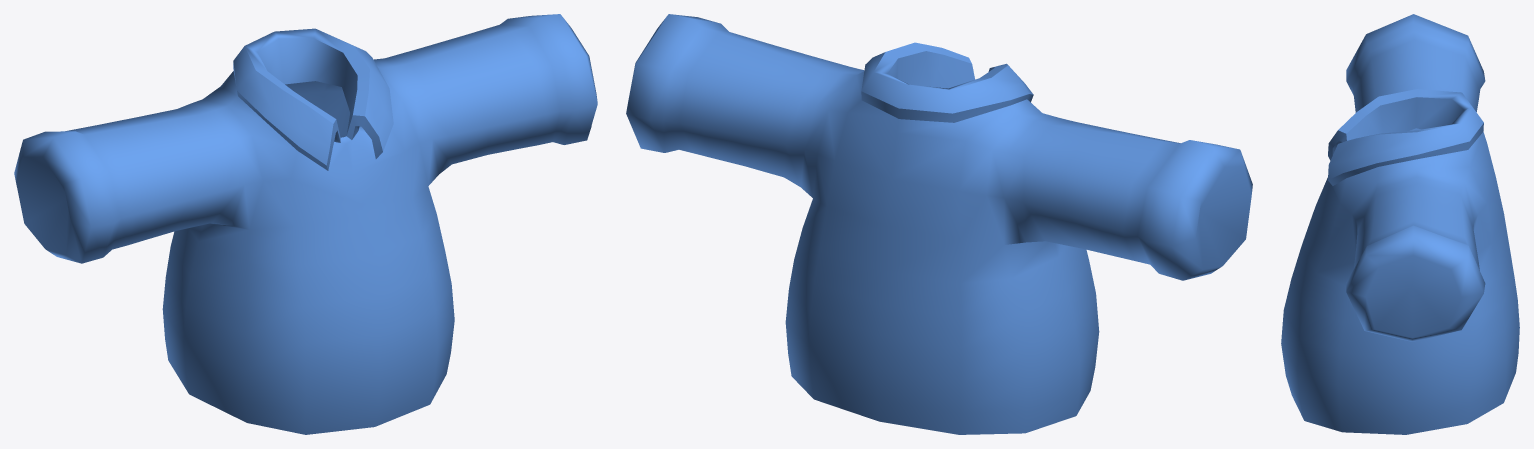
Rendered from Top_38.fbx.
The picture shows the model from 3 angles, left to right: view 1: azimuth 30°, elevation 25°; view 2: azimuth 150°, elevation 25°; view 3: azimuth 270°, elevation 25°; orthographic projection. The views are drawn at different scales.
Parts seen in each view (by area): view 1: Top_38; view 2: Top_38; view 3: Top_38.
Boxes of the visible parts, left/top/right/bottom form: Top_38: left=14, top=14, right=597, bottom=434; Top_38: left=626, top=14, right=1252, bottom=434; Top_38: left=1281, top=14, right=1519, bottom=434.
Size of the model in its own units: 86.81 by 50.54 by 37.84.
